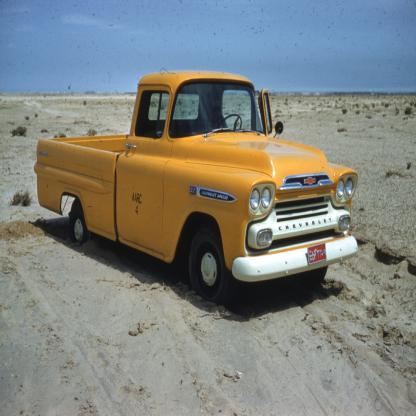Truck: (34, 71, 359, 308)
